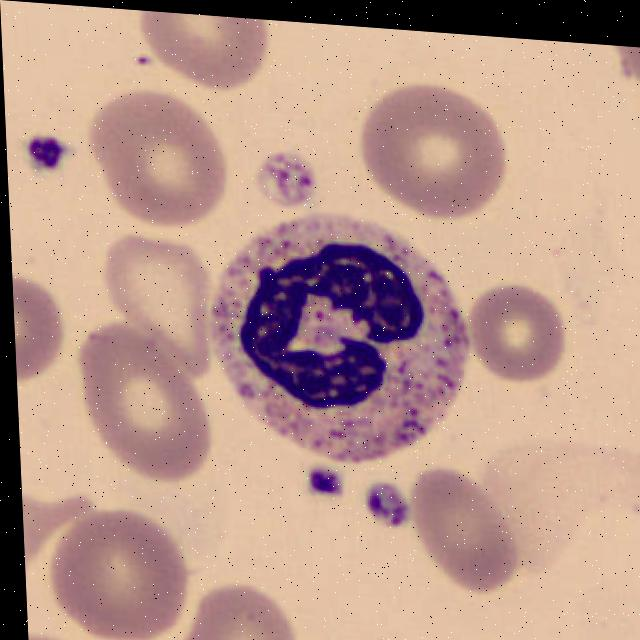neutrophil: (205, 208, 476, 470)
platelets: (258, 150, 320, 218), (24, 125, 79, 178), (363, 482, 411, 530), (308, 466, 343, 499)
rbc: (72, 318, 204, 499), (86, 91, 239, 235), (47, 499, 195, 640), (363, 85, 502, 221), (106, 224, 209, 372), (411, 468, 520, 606), (135, 10, 291, 104), (466, 275, 571, 407), (12, 259, 73, 395), (182, 578, 305, 640)
